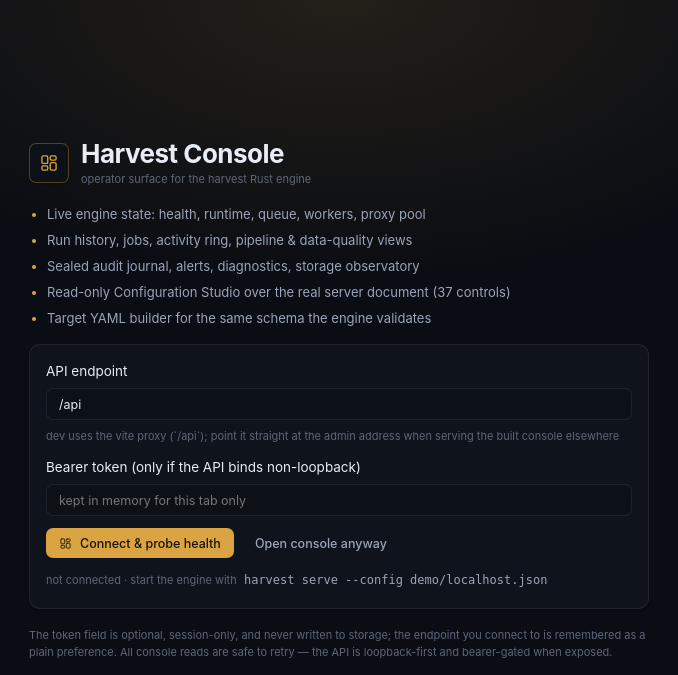
Test: first-run connect screen (§3) › probes the endpoint and reports the real health verdict
The width and height of the screenshot is (678, 675).
Click the button "Connect & probe health" at (140, 543), box x1=46 y1=528 x2=234 y2=558
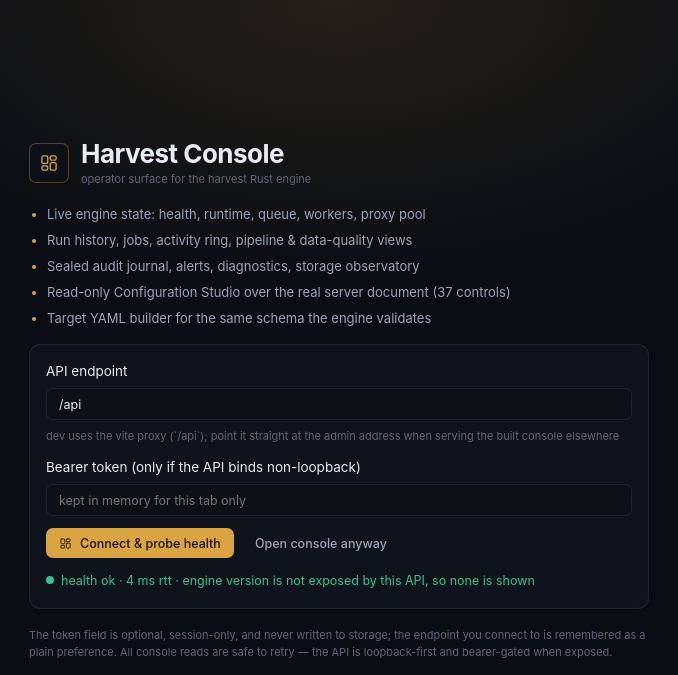
Check: the text "health ok" is shown, box x1=61 y1=572 x2=115 y2=588
Check: the text "version is not exposed" is shown, box x1=182 y1=572 x2=535 y2=588
